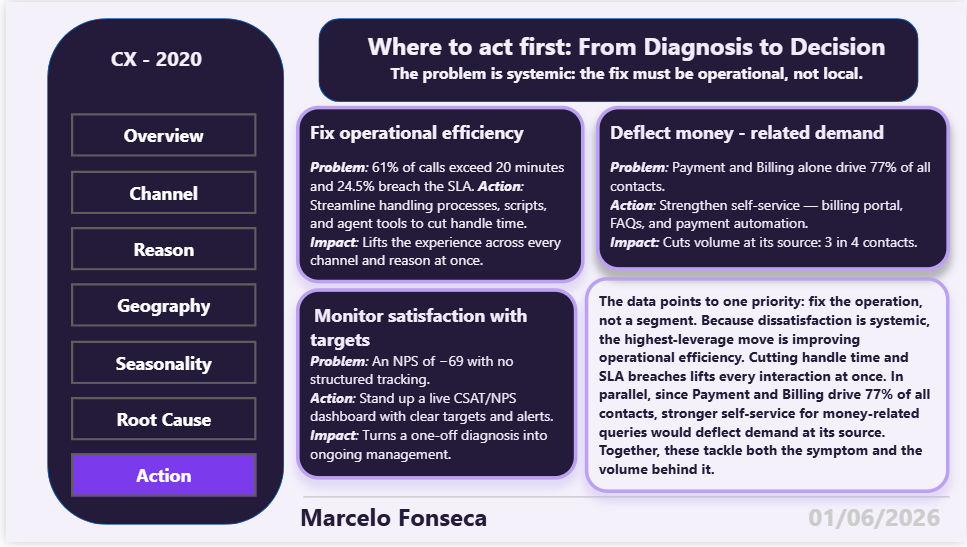

This screenshot's page, from the dashboard's own definition file:
{"tool":"powerbi","page":{"name":"Action","canvas":[1280,720],"ordinal":8},"visuals":[{"type":"shape","box":[54.4,21.1,315.8,675.4],"z":0},{"type":"textbox","box":[135.5,50.9,149.1,57.9],"z":1000},{"type":"shape","box":[416.7,21.7,800,111.7],"z":2000},{"type":"textbox","box":[438.3,31.7,778.3,95],"z":3000},{"type":"shape","box":[396.5,629.8,861.4,59.6],"z":4000},{"type":"textbox","box":[386,659.6,300,59.6],"z":5000},{"type":"textbox","box":[1064.9,659.6,193,59.6],"z":6000},{"type":"actionButton","title":"Overview","box":[86.4,149.1,247.4,57.9],"z":7000},{"type":"actionButton","box":[86.4,224.6,247.4,57.9],"z":8000},{"type":"actionButton","box":[86.4,300,247.4,57.9],"z":9000},{"type":"actionButton","box":[86.4,375.4,247.4,57.9],"z":10000},{"type":"actionButton","box":[86.4,450.9,247.4,57.9],"z":11000},{"type":"actionButton","box":[86.4,526.3,247.4,57.9],"z":12000},{"type":"actionButton","box":[86.4,601.8,247.4,57.9],"z":13000},{"type":"textbox","box":[386.7,138.3,385,236.7],"z":13001},{"type":"textbox","box":[786.7,138.3,471.7,220],"z":13002},{"type":"textbox","box":[386.7,381.7,375,255],"z":13003},{"type":"textbox","box":[771.7,366.7,486.7,288.3],"z":13004}]}

Visuals, with their boxes in screenshot pixels (x1, y1, x2, y2), scaled from the page's 1280x720 canvas onto the 967x547 screenshot:
shape: l=41, t=16, r=280, b=529
textbox: l=102, t=39, r=215, b=83
shape: l=315, t=16, r=919, b=101
textbox: l=331, t=24, r=919, b=96
shape: l=300, t=478, r=950, b=524
textbox: l=292, t=501, r=518, b=546
textbox: l=804, t=501, r=950, b=546
"Overview" actionButton: l=65, t=113, r=252, b=157
actionButton: l=65, t=171, r=252, b=215
actionButton: l=65, t=228, r=252, b=272
actionButton: l=65, t=285, r=252, b=329
actionButton: l=65, t=343, r=252, b=387
actionButton: l=65, t=400, r=252, b=444
actionButton: l=65, t=457, r=252, b=501
textbox: l=292, t=105, r=583, b=285
textbox: l=594, t=105, r=951, b=272
textbox: l=292, t=290, r=575, b=484
textbox: l=583, t=279, r=951, b=498
